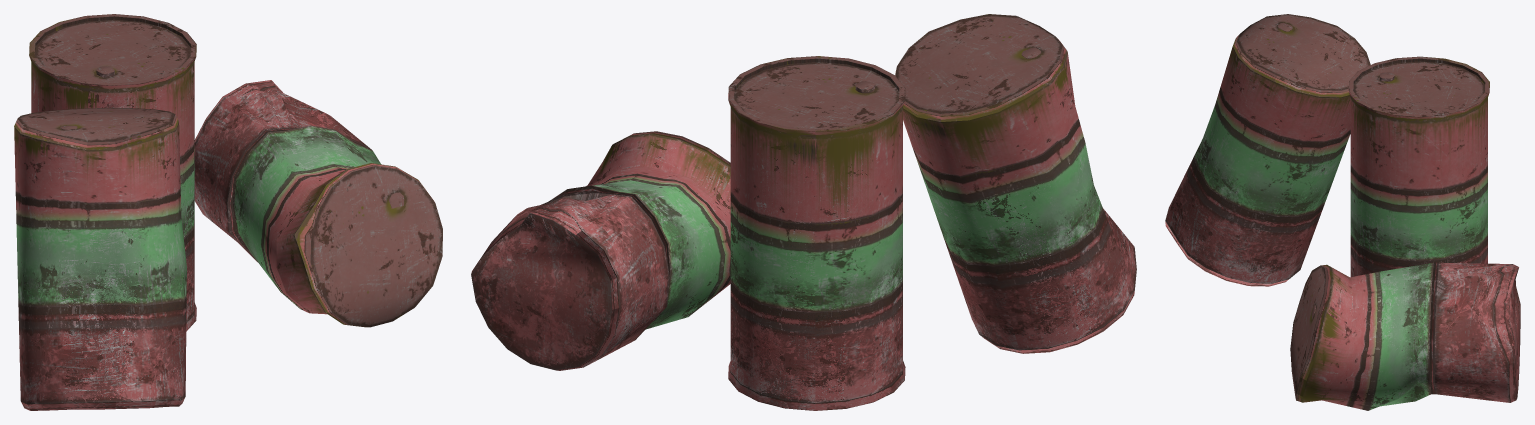
Rendered from barrel.fbx.
The picture shows the model from 3 angles, left to right: view 1: azimuth 30°, elevation 25°; view 2: azimuth 150°, elevation 25°; view 3: azimuth 270°, elevation 25°; orthographic projection. The views are drawn at different scales.
Parts seen in each view (by area): view 1: Barrel_02; view 2: Barrel_02; view 3: Barrel_02.
Part boxes in pixels (left/top/right/bottom): Barrel_02: left=14, top=14, right=442, bottom=410; Barrel_02: left=471, top=14, right=1136, bottom=410; Barrel_02: left=1165, top=14, right=1520, bottom=410.
Bounding box in the file's own units: 191 × 118 × 151.
1 material, 1 textured.
